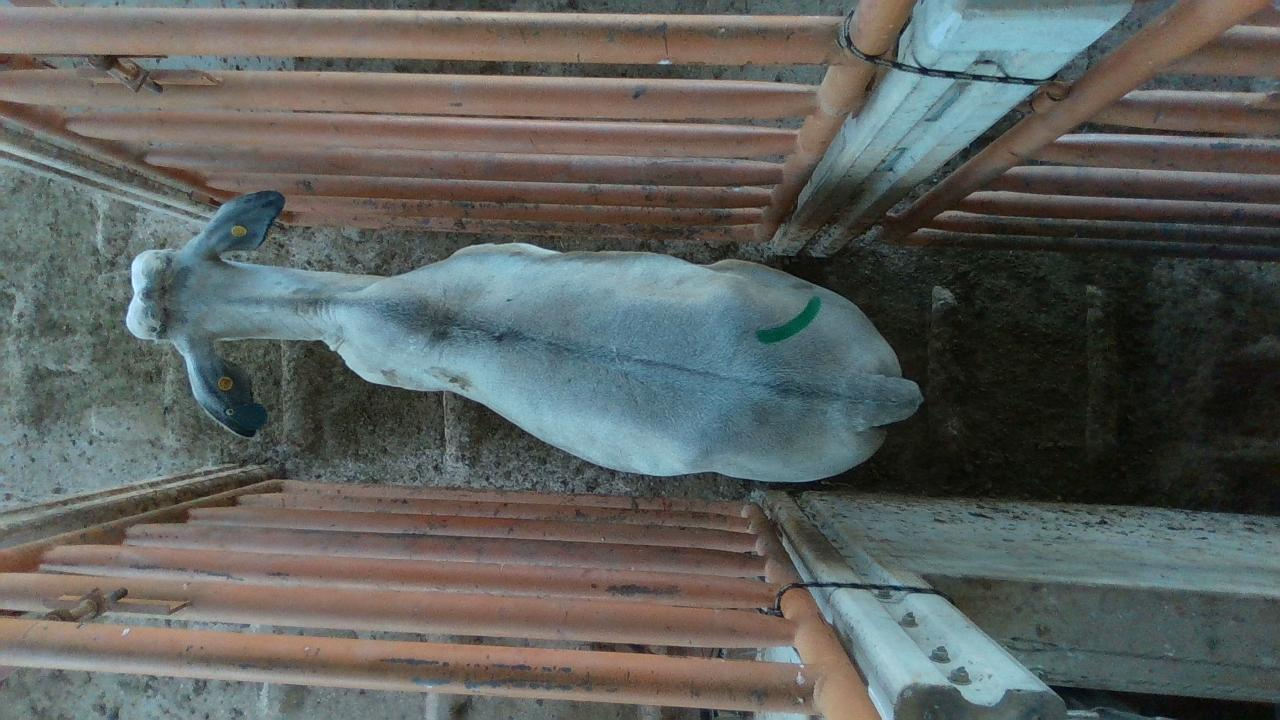cattle: (124, 188, 924, 484)
